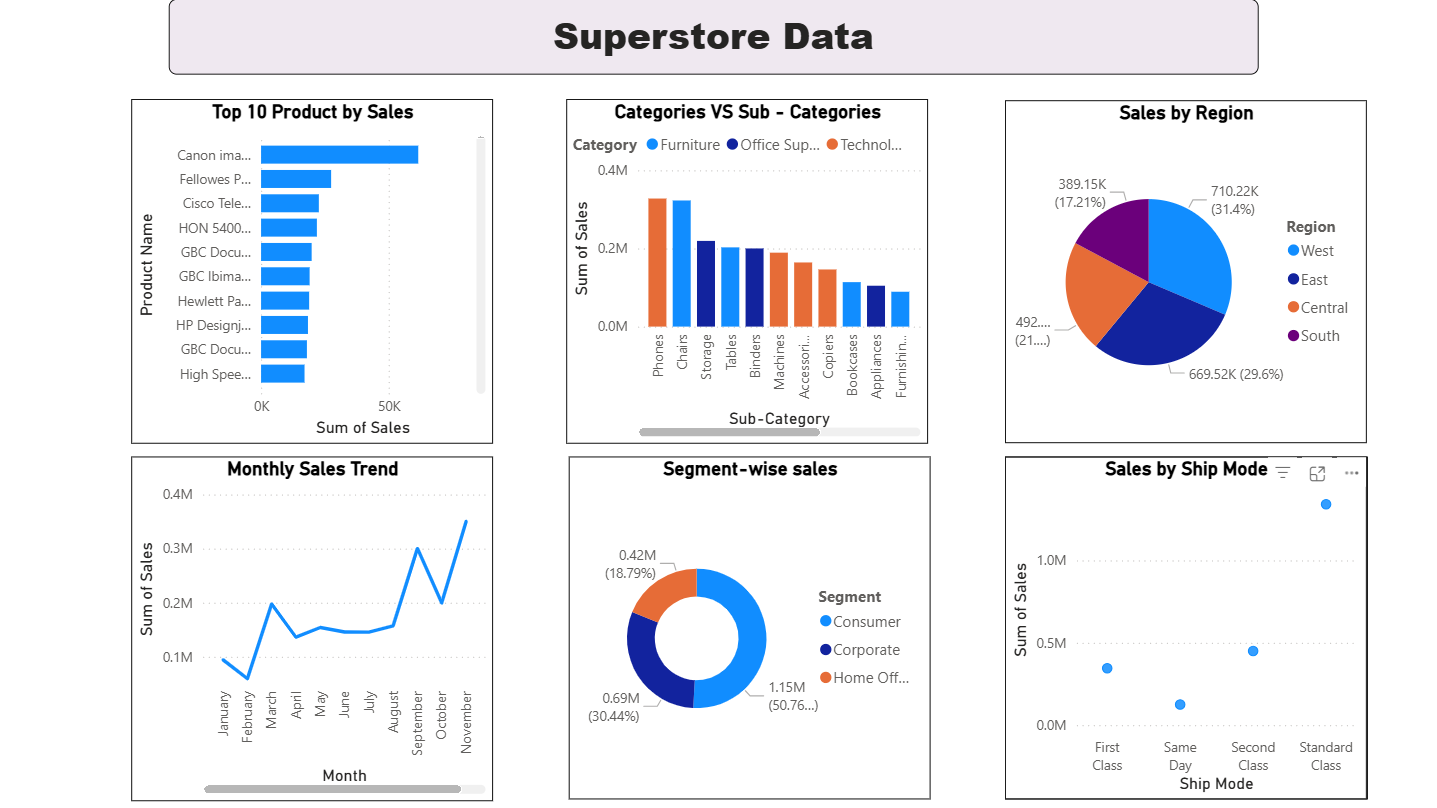

What the dashboard file says about the page in this screenshot:
{"tool":"powerbi","page":{"name":"Page 1","canvas":[1280,720],"ordinal":0},"visuals":[{"type":"barChart","title":"Top 10 Product by Sales","fields":{"Category":["Superstore.Product Name"],"Y":["Sum(Superstore.Sales)"]},"box":[116.2,88.8,321.2,306.2],"z":0},{"type":"lineChart","title":"Monthly Sales Trend","fields":{"Y":["Sum(Superstore.Sales)"],"Category":["Superstore.Order Date.Variation.Date Hierarchy.Month"]},"box":[116.2,406.2,321.2,306.2],"z":1000},{"type":"columnChart","title":"Categories VS Sub - Categories","fields":{"Category":["Superstore.Sub-Category"],"Y":["Sum(Superstore.Sales)"],"Series":["Superstore.Category"]},"box":[503.8,88.8,321.2,306.2],"z":2000},{"type":"donutChart","title":"Segment-wise sales","fields":{"Category":["Superstore.Segment"],"Y":["Sum(Superstore.Sales)"]},"box":[505,406.2,321.2,305],"z":3000},{"type":"scatterChart","title":"Sales by Ship Mode","fields":{"X":["Superstore.Ship Mode"],"Y":["Sum(Superstore.Sales)"]},"box":[893.8,406.2,321.2,305],"z":4000},{"type":"textbox","box":[150,0,968.8,67.5],"z":4001},{"type":"pieChart","title":"Sales by Region","fields":{"Category":["Superstore.Region"],"Y":["Sum(Superstore.Sales)"]},"box":[893.8,90,321.2,305],"z":4002}]}

Visuals, with their boxes in screenshot pixels (x1, y1, x2, y2), scaled from the page's 1280x720 canvas onto the 1437x808 screenshot:
"Top 10 Product by Sales" barChart: <box>130,100,491,443</box>
"Monthly Sales Trend" lineChart: <box>130,456,491,799</box>
"Categories VS Sub - Categories" columnChart: <box>566,100,926,443</box>
"Segment-wise sales" donutChart: <box>567,456,928,798</box>
"Sales by Ship Mode" scatterChart: <box>1003,456,1364,798</box>
textbox: <box>168,0,1256,76</box>
"Sales by Region" pieChart: <box>1003,101,1364,443</box>
